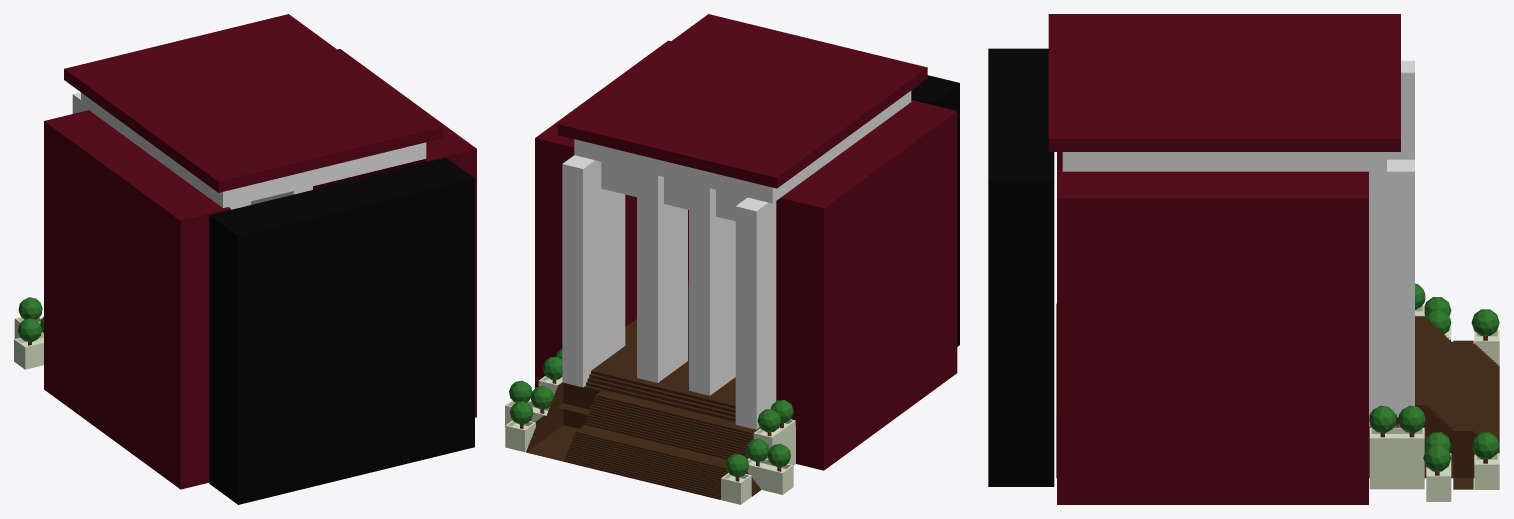
The model's file is melchor-draft.fbx.
3 views of the same model, side by side, from view 1: azimuth 30°, elevation 25°; view 2: azimuth 150°, elevation 25°; view 3: azimuth 270°, elevation 25° (orthographic). The views are drawn at different scales.
Parts seen in each view (by area): view 1: Cube.023, Cube.015, Cube.025, Cube.022, Cube.016, Cube.007; view 2: Cube.015, Cube.025, Cube.002, Cube.017, Cube.019, Cube.018, Cube.020, Cube.016, Cube.022, Cube.009, Cube.021, Cube.014 (+4 smaller); view 3: Cube.016, Cube.025, Cube.023, Cube.017, Cube.002, Cube.022, Cube.010, Cube.018, Cube.011, Icosphere.003, Icosphere, Cube.005 (+3 smaller).
Boxes of the visible parts, box(x1,y1,x2,y2) form: Cube.023: box(209, 157, 474, 504); Cube.015: box(44, 110, 230, 489); Cube.025: box(64, 14, 442, 192); Cube.022: box(81, 92, 426, 207); Cube.016: box(313, 49, 476, 417); Cube.007: box(14, 337, 43, 369); Cube.015: box(776, 100, 957, 470); Cube.025: box(558, 14, 927, 188); Cube.002: box(526, 382, 760, 499); Cube.017: box(562, 155, 625, 387); Cube.019: box(637, 170, 687, 382); Cube.018: box(735, 197, 776, 429); Cube.020: box(689, 183, 735, 395); Cube.016: box(535, 40, 688, 388); Cube.022: box(574, 91, 911, 203); Cube.009: box(563, 367, 759, 429); Cube.021: box(601, 162, 747, 221); Cube.014: box(597, 281, 735, 401); Cube.016: box(1057, 170, 1368, 504); Cube.025: box(1048, 14, 1400, 151); Cube.023: box(988, 48, 1054, 486); Cube.017: box(1369, 159, 1414, 426); Cube.002: box(1415, 316, 1499, 489); Cube.022: box(1062, 152, 1386, 171); Cube.010: box(1369, 434, 1424, 489); Cube.018: box(1387, 60, 1414, 159); Cube.011: box(1369, 427, 1424, 469); Icosphere.003: box(1423, 444, 1451, 471); Icosphere: box(1471, 432, 1499, 459); Cube.005: box(1426, 465, 1451, 501).
Size of the model in its own units: 2768 by 2700 by 3628.
